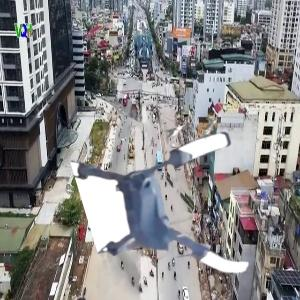drone: (91, 132, 259, 300)
